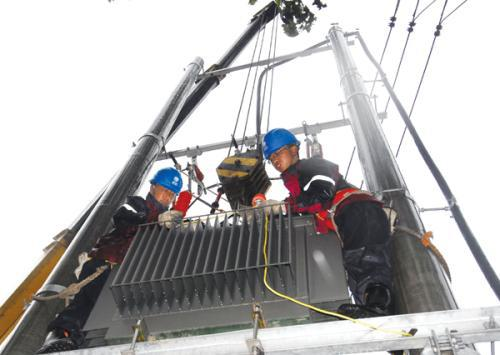helmet: (258, 122, 306, 177), (143, 158, 187, 217)
